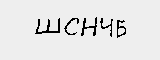Б: (115, 18, 128, 39)
Н: (79, 16, 97, 39)
С: (62, 16, 80, 37)
Ч: (97, 16, 115, 36)
Ш: (34, 17, 61, 35)
